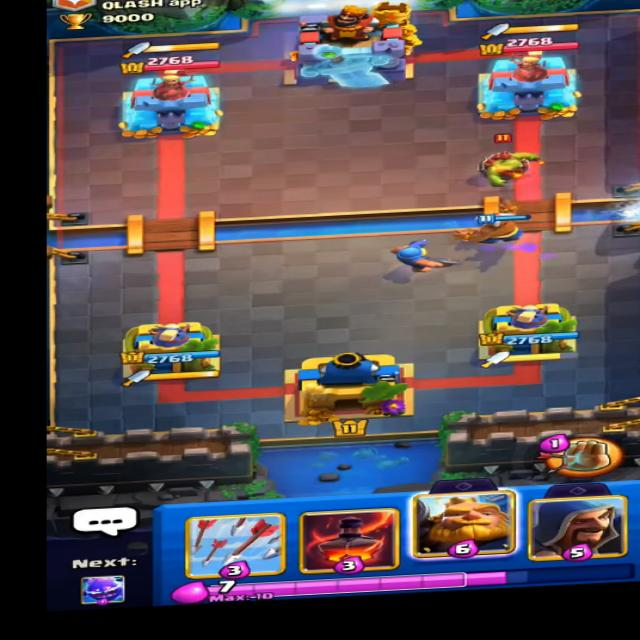Goblindemolisher: (470, 137, 547, 183)
